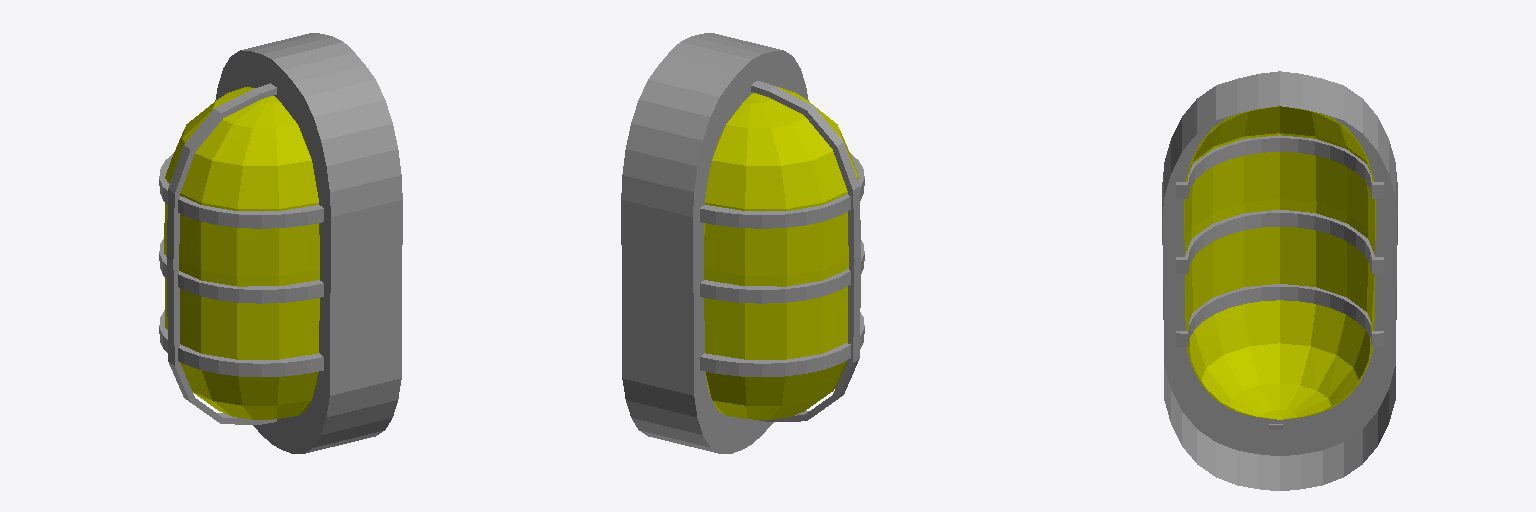
Rendered from wallLight1.obj.
3 views of the same model, side by side, from view 1: azimuth 30°, elevation 25°; view 2: azimuth 150°, elevation 25°; view 3: azimuth 270°, elevation 25° (orthographic).
Parts seen in each view (by area): view 1: Sphere.004, Sphere; view 2: Sphere.004, Sphere; view 3: Sphere.004, Sphere.
Boxes of the visible parts, box(x1,y1,x2,y2) form: Sphere.004: box(159, 33, 402, 453); Sphere: box(164, 87, 319, 419); Sphere.004: box(621, 33, 864, 453); Sphere: box(704, 87, 858, 419); Sphere.004: box(1162, 71, 1397, 490); Sphere: box(1184, 106, 1375, 419).
Size of the model in its own units: 0.367 by 0.7686 by 0.4261.